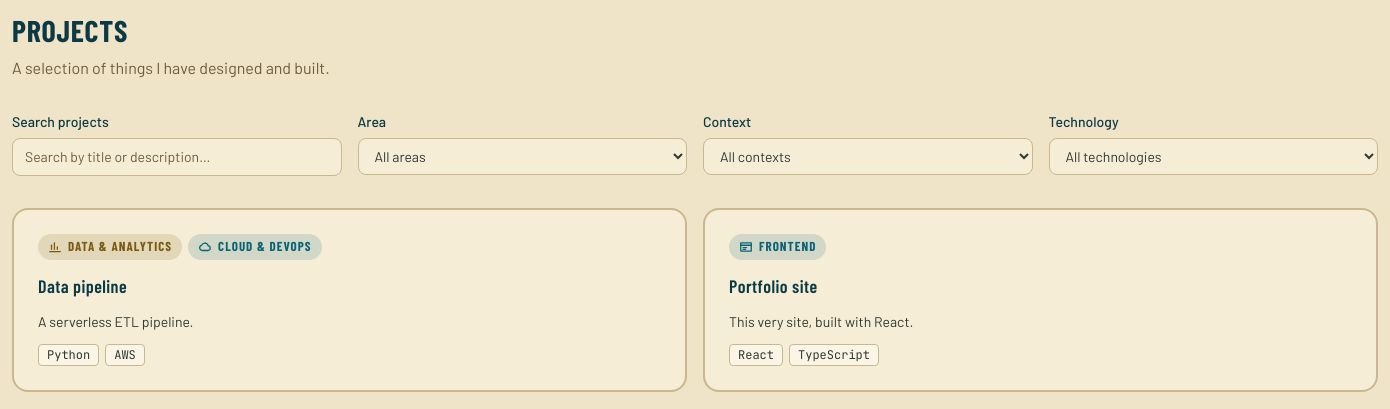
it: Projects › filters projects by area
The image size is (1390, 409).
expect the link "Data pipeline" is shown: met, box [38,275,127,297]
Select "Frontend" in the dropdown labelled "Area": (522, 156) [358,138,687,175]
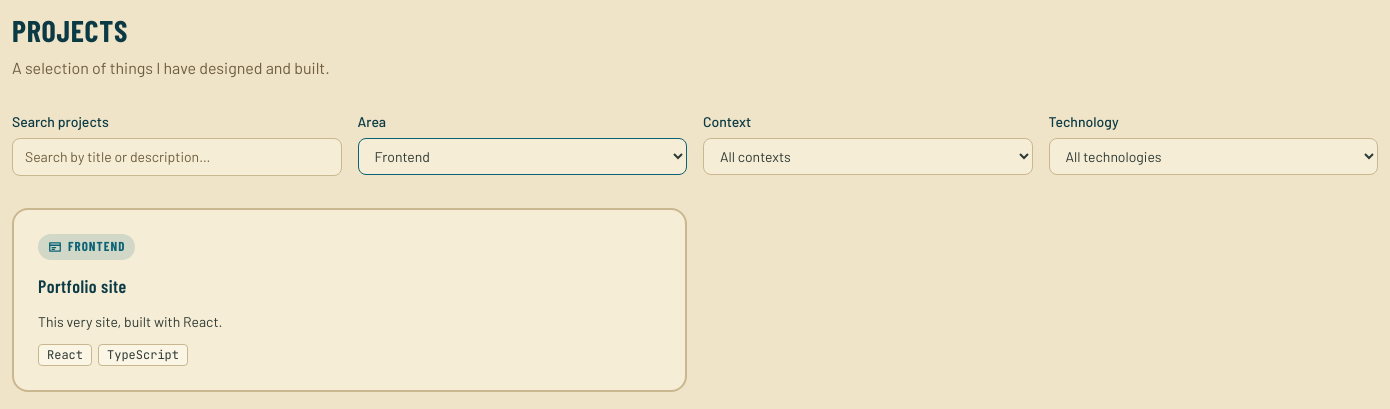
expect the link "Portfolio site" is shown: met, box [38,275,127,297]
expect the link "Data pipeline" is gone: met
